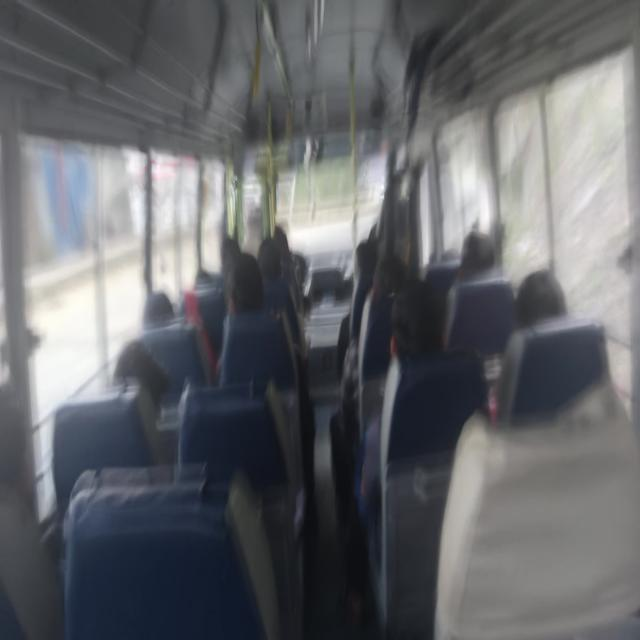person: (0, 375, 55, 584), (503, 264, 588, 360), (114, 342, 170, 424), (383, 291, 445, 363), (224, 257, 264, 309), (360, 236, 390, 294), (377, 262, 414, 309), (144, 289, 186, 329), (454, 236, 494, 272), (254, 235, 281, 280), (196, 251, 214, 286), (268, 225, 286, 252), (219, 233, 239, 257), (445, 240, 464, 264)
